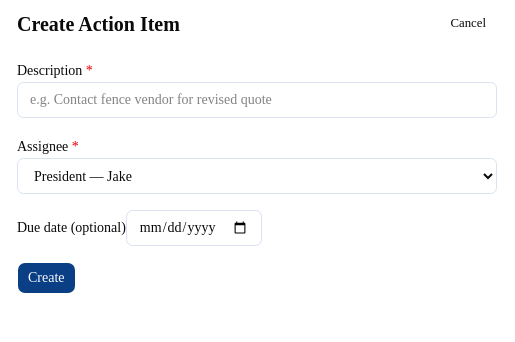
Test case: ActionItemPanel › surfaces a failure instead of reporting an item that was never written
Type "Call the fence vendor" into the field labelled "Description *" at [257, 100], box top-left (17, 82), bottom-right (497, 118)
Then press Enter
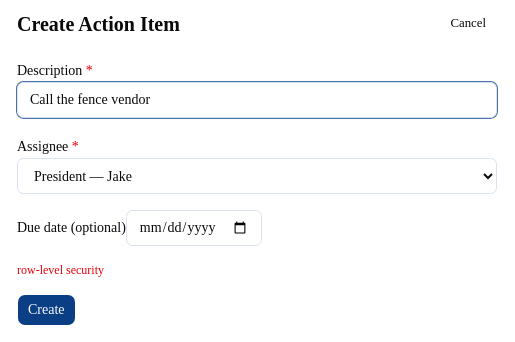
Check: the message reads "row-level security", box top-left (17, 263), bottom-right (104, 277)
